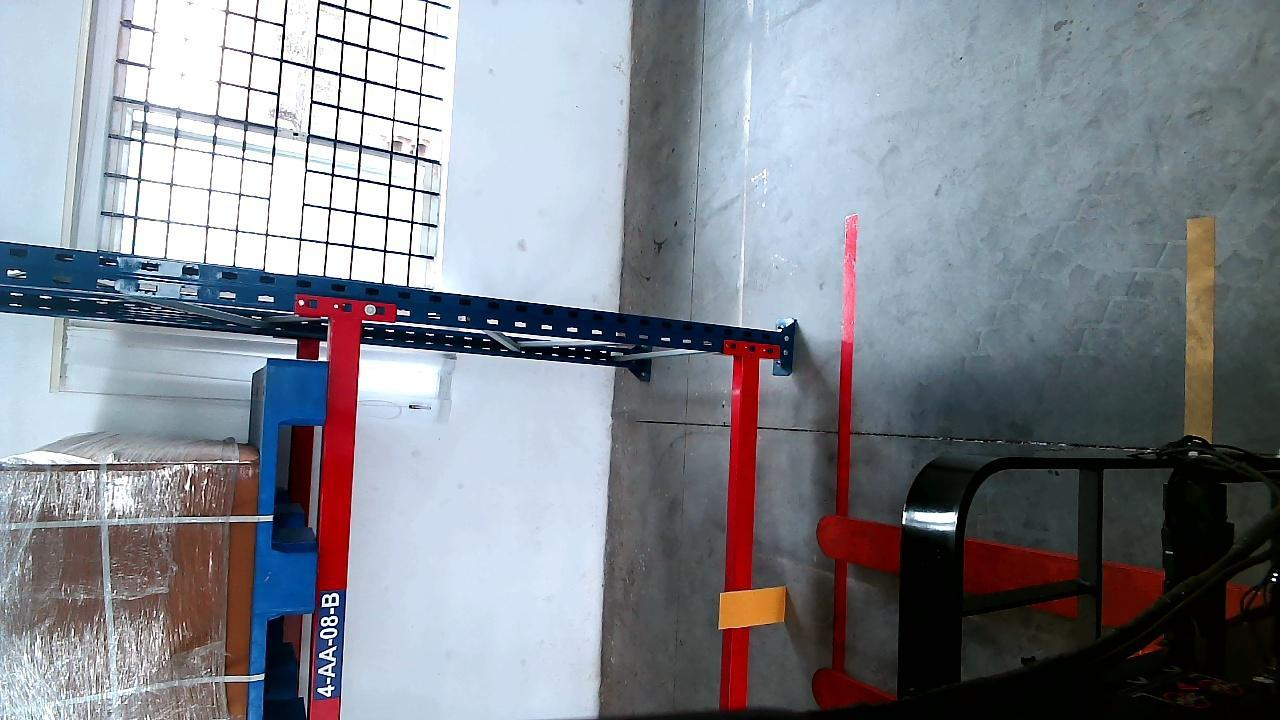red_line: (827, 217, 860, 666)
yellow_line: (1187, 213, 1214, 435)
